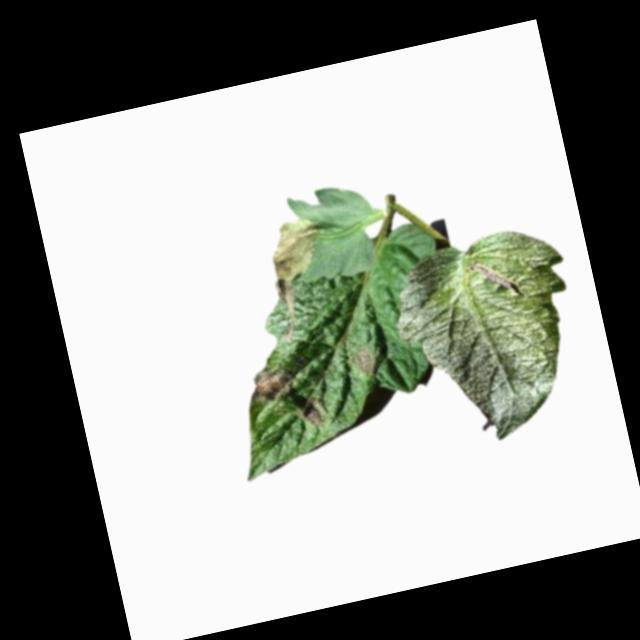Late_blight: (265, 214, 328, 282), (271, 277, 306, 342), (248, 364, 297, 405), (349, 348, 377, 380), (301, 399, 327, 431)
